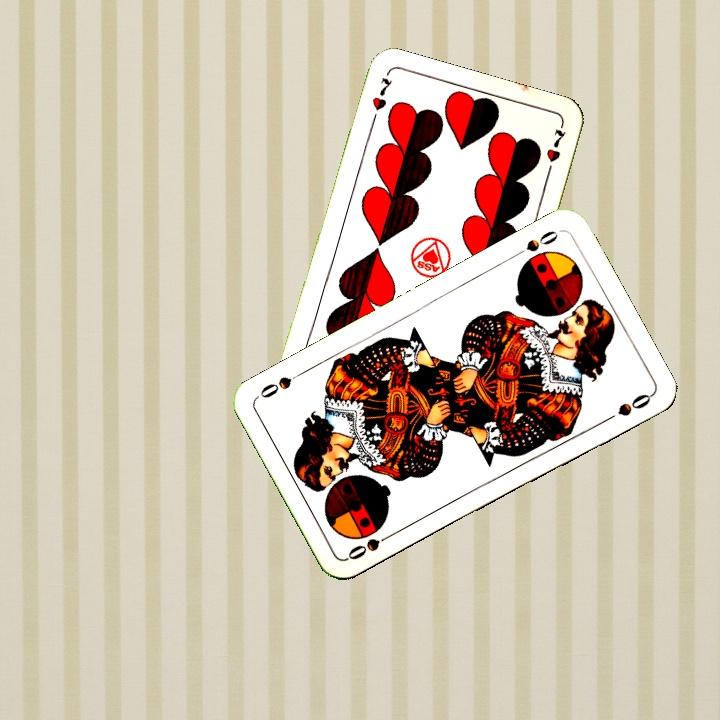H7: (367, 73, 395, 129)
SO: (343, 528, 398, 563), (509, 226, 561, 261)
